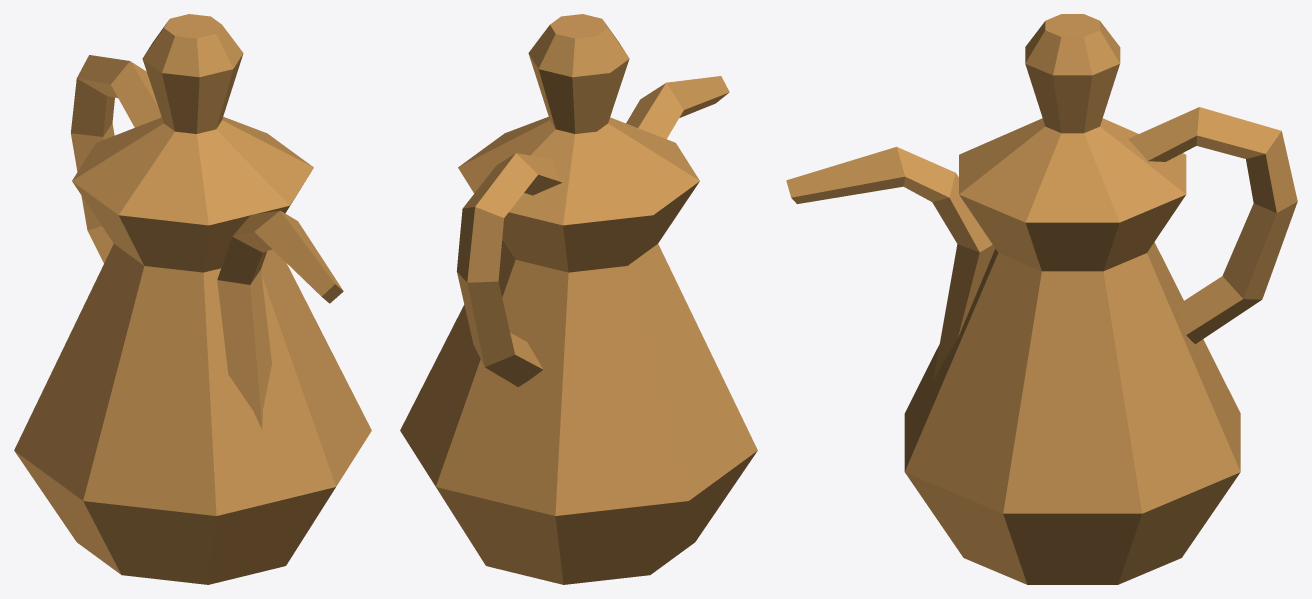
File: SM_Prop_Gold_Teapot_01.glb
3 renders of one model, left to right at view 1: azimuth 30°, elevation 25°; view 2: azimuth 150°, elevation 25°; view 3: azimuth 270°, elevation 25°, orthographic.
Visible parts, largest first — view 1: SM_Prop_Gold_Teapot_01; view 2: SM_Prop_Gold_Teapot_01; view 3: SM_Prop_Gold_Teapot_01.
Boxes of the visible parts, x1=… form: SM_Prop_Gold_Teapot_01: x1=14, y1=14, x2=371, y2=584; SM_Prop_Gold_Teapot_01: x1=400, y1=14, x2=757, y2=584; SM_Prop_Gold_Teapot_01: x1=786, y1=14, x2=1297, y2=584.
Bounding box in the file's own units: 0.2491 × 0.4199 × 0.3793.
1 material, 1 textured.
